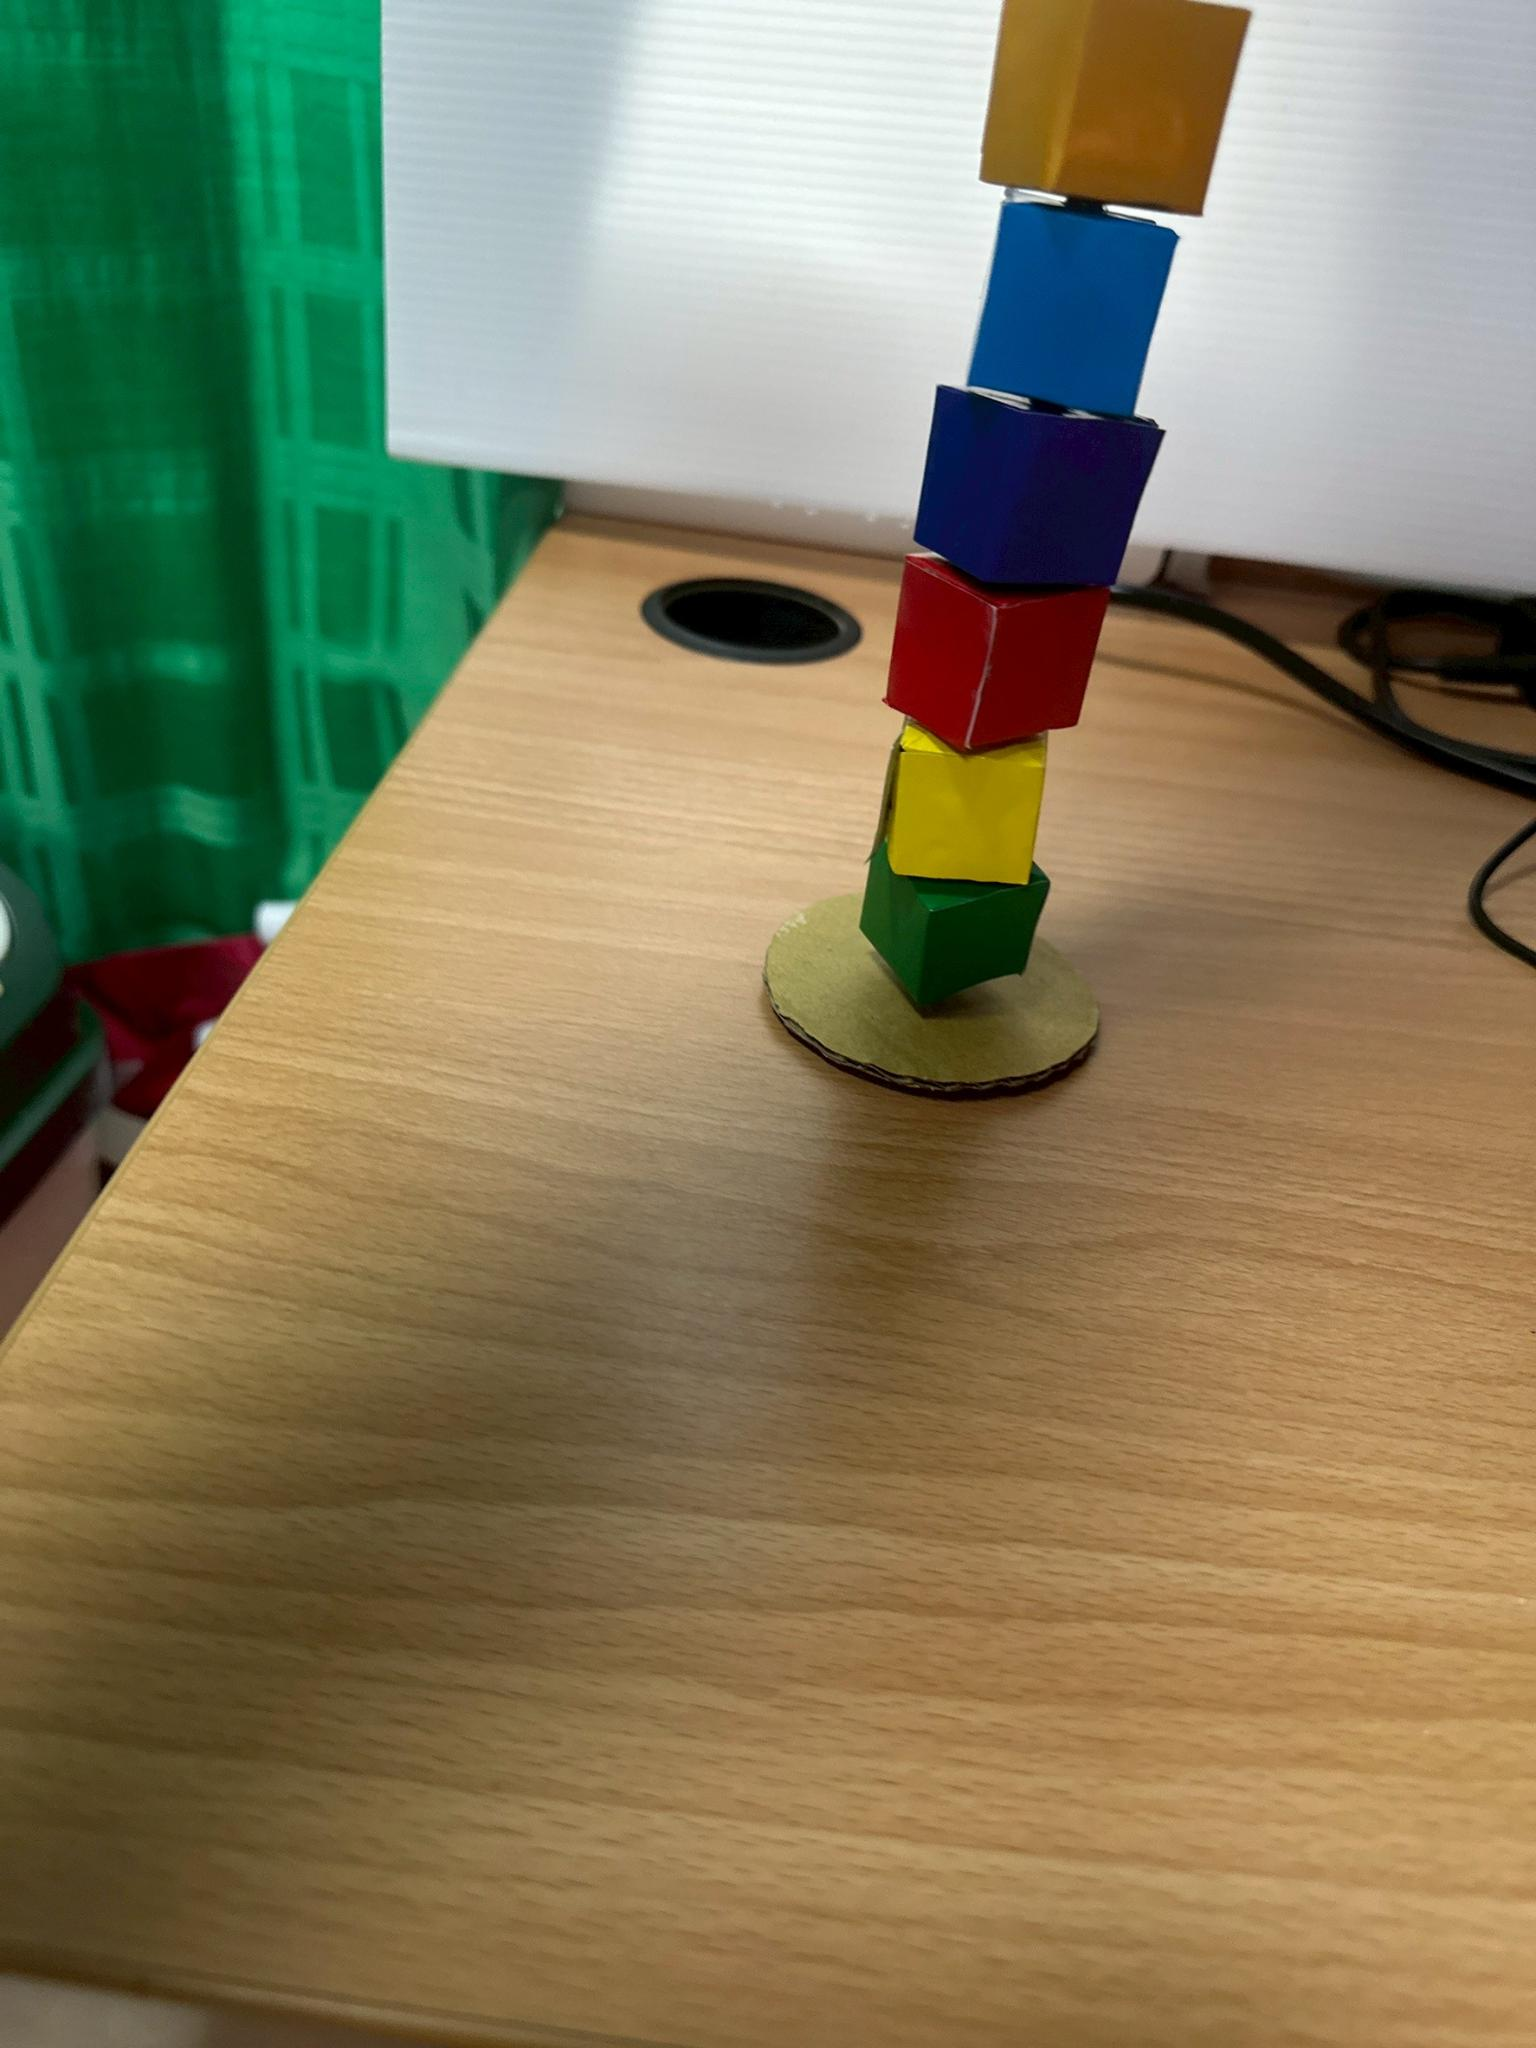base: (765, 893, 1099, 1095)
